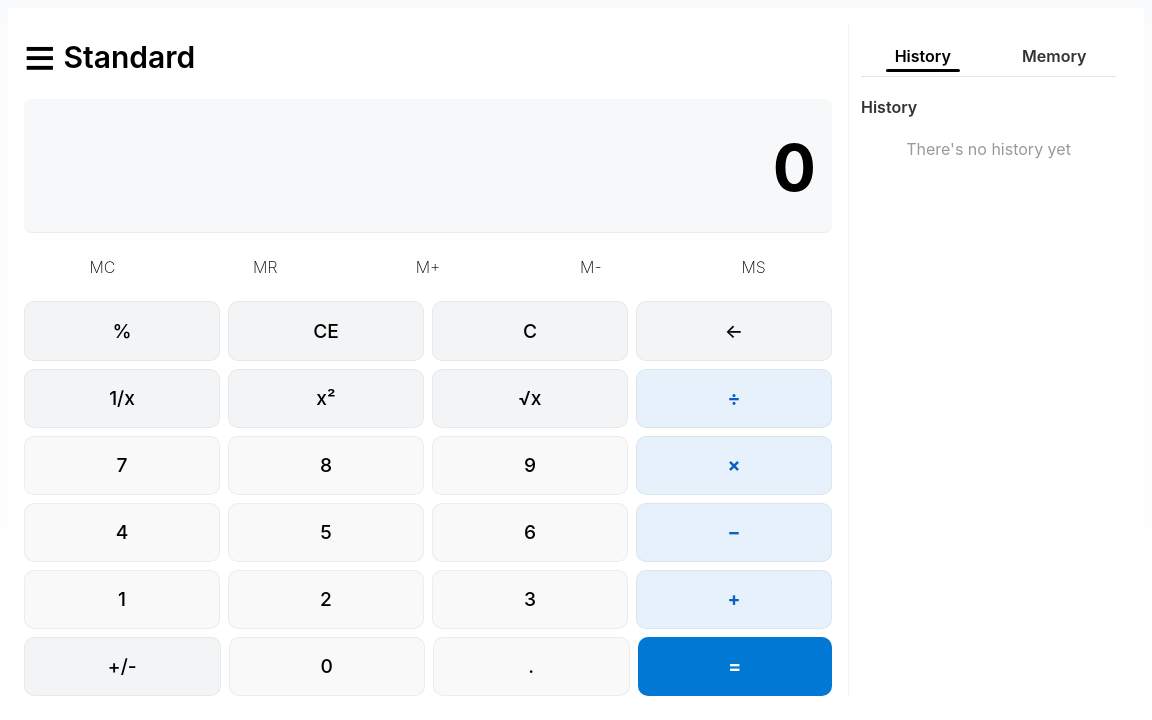
Calculator UI — detailed (async-safe) › basic multiply 7 × 8 = 56
Click the button "7" at coordinates (122, 465), box [24,436,220,495]
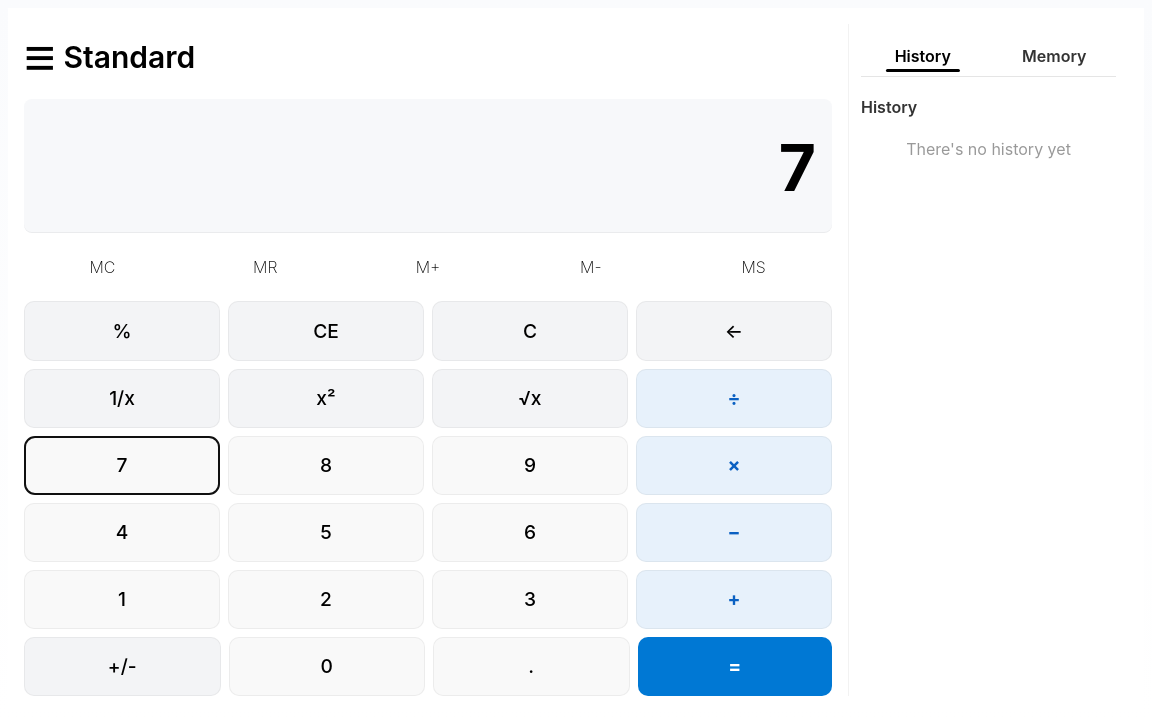
Click the button "×" at coordinates (734, 465), box [636,436,832,495]
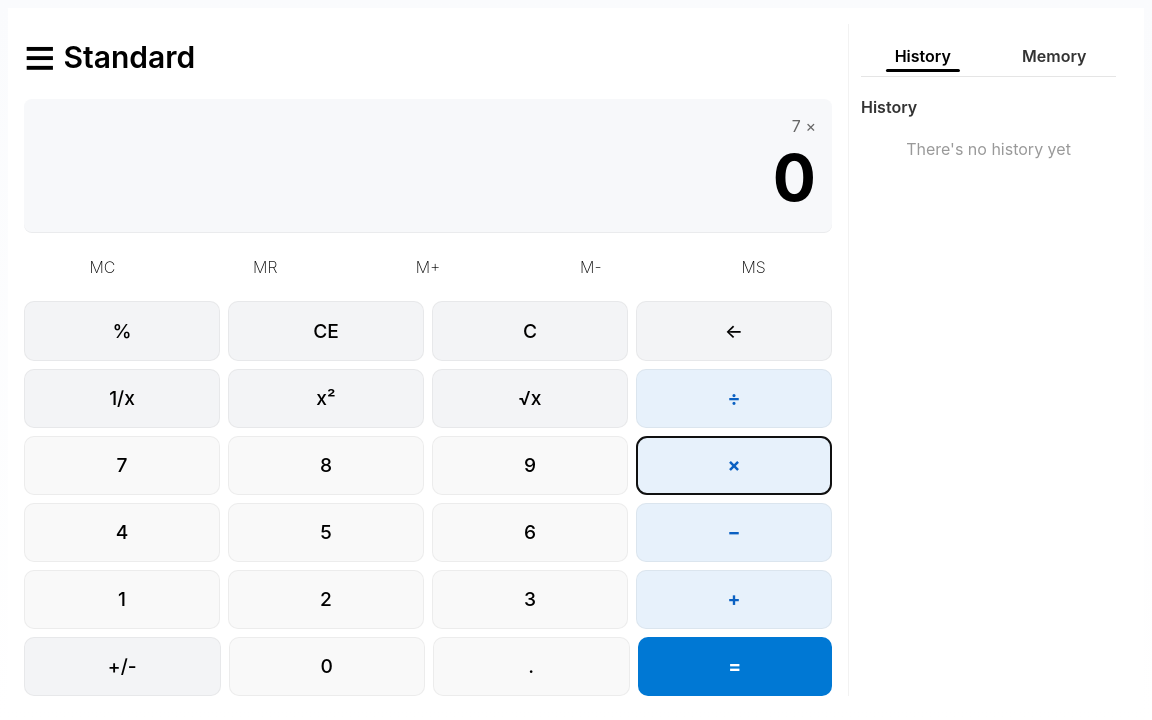
Click the button "8" at coordinates (326, 465), box [228,436,424,495]
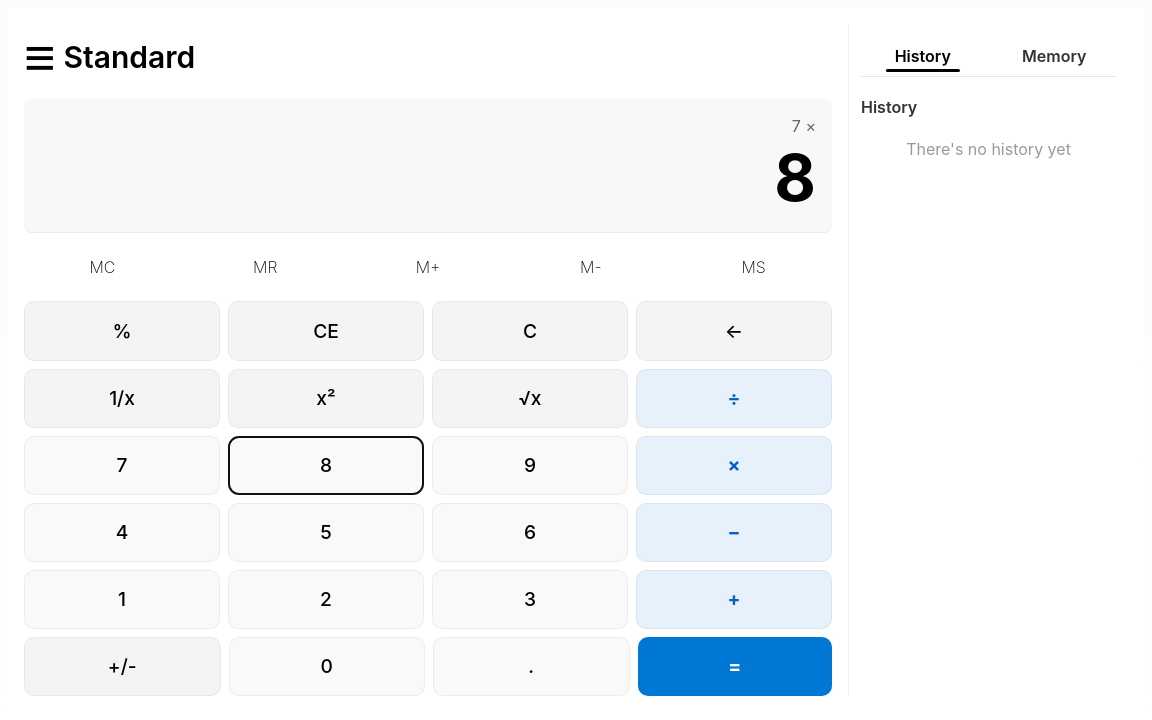
Click the button "=" at coordinates (735, 666), box [638,637,832,696]
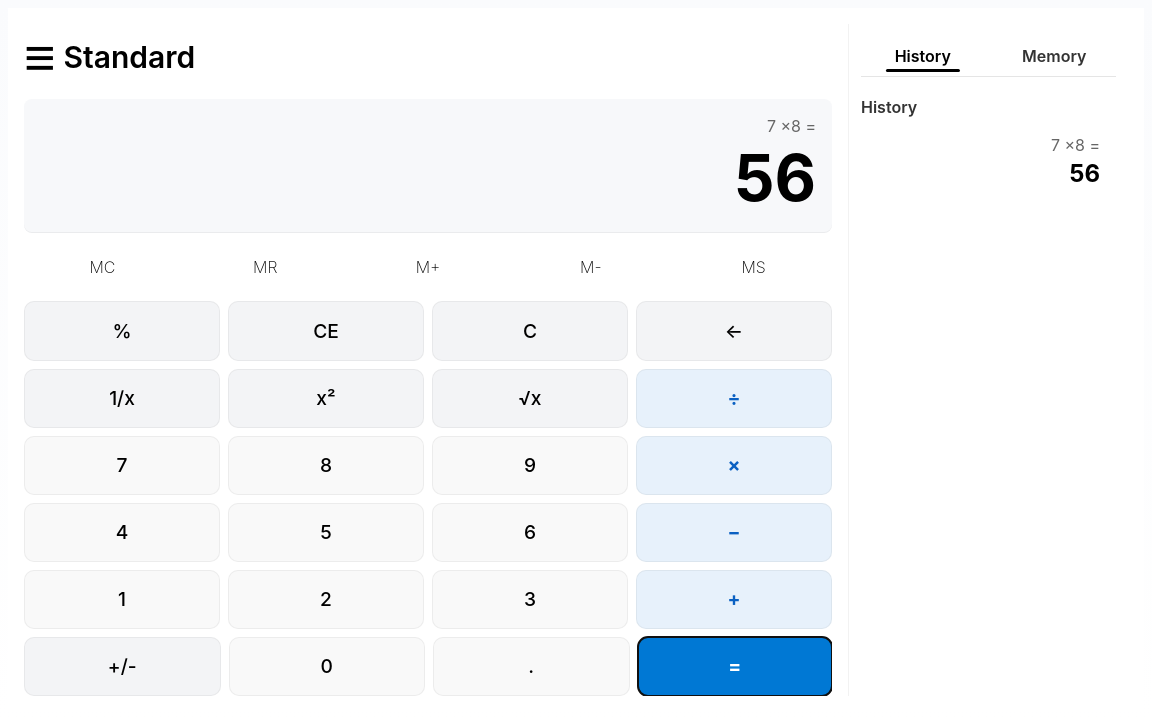
expect the field with test id "display" reads "56": met, box [735,140,816,216]
